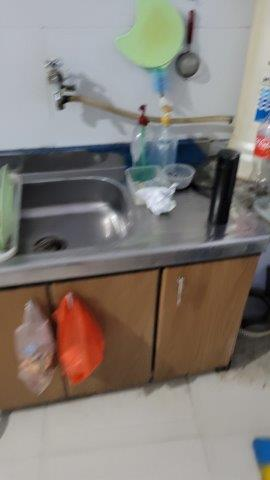kertas: (136, 181, 178, 216)
